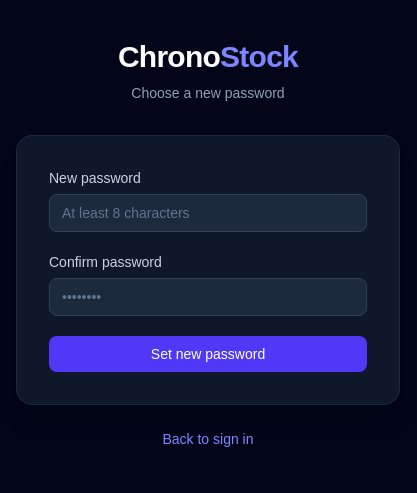
Test: ResetPasswordPage › validates mismatched passwords before submitting
Type "password123" into the password field labelled "New password" at (208, 213), box [49,194,367,232]
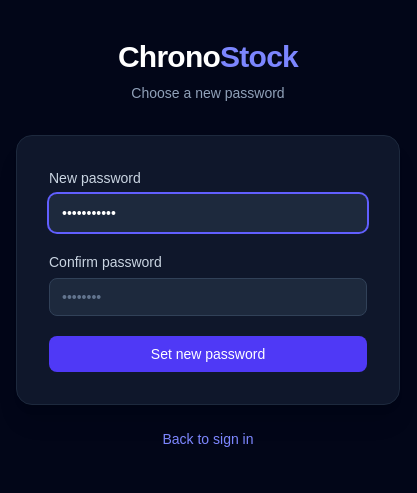
Type "password456" into the password field labelled "Confirm password" at (208, 297), box [49,278,367,316]
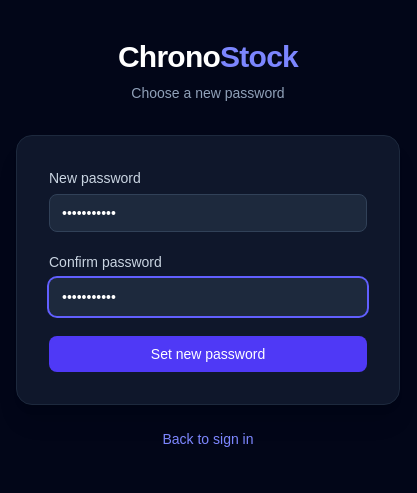
Click the button "Set new password" at (208, 354), box [49,336,367,372]
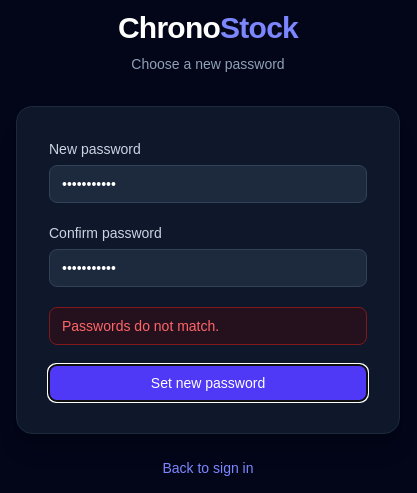
Expected: the text "Passwords do not match." is shown, [49,307,367,345]
